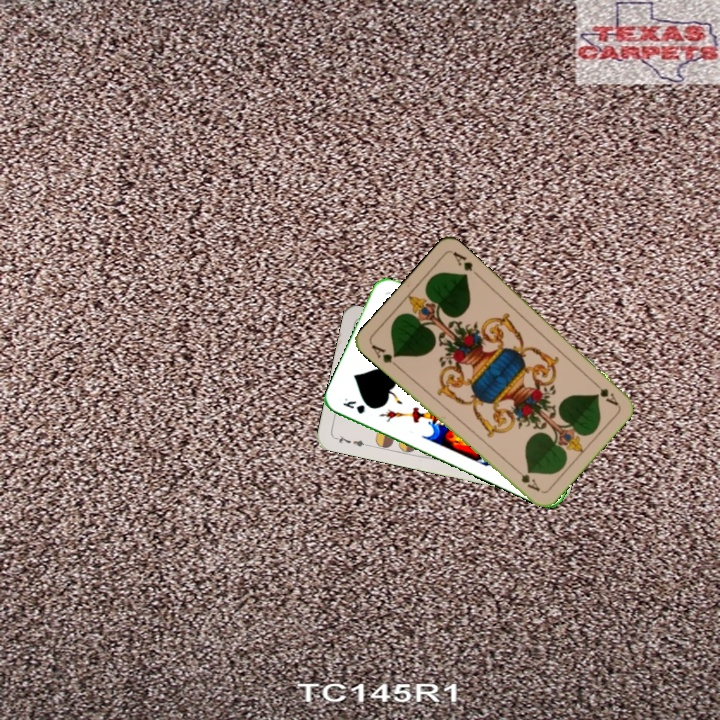E7: (331, 431, 371, 449)
GA: (588, 376, 621, 408), (367, 340, 401, 371)
GK: (339, 394, 367, 416)
